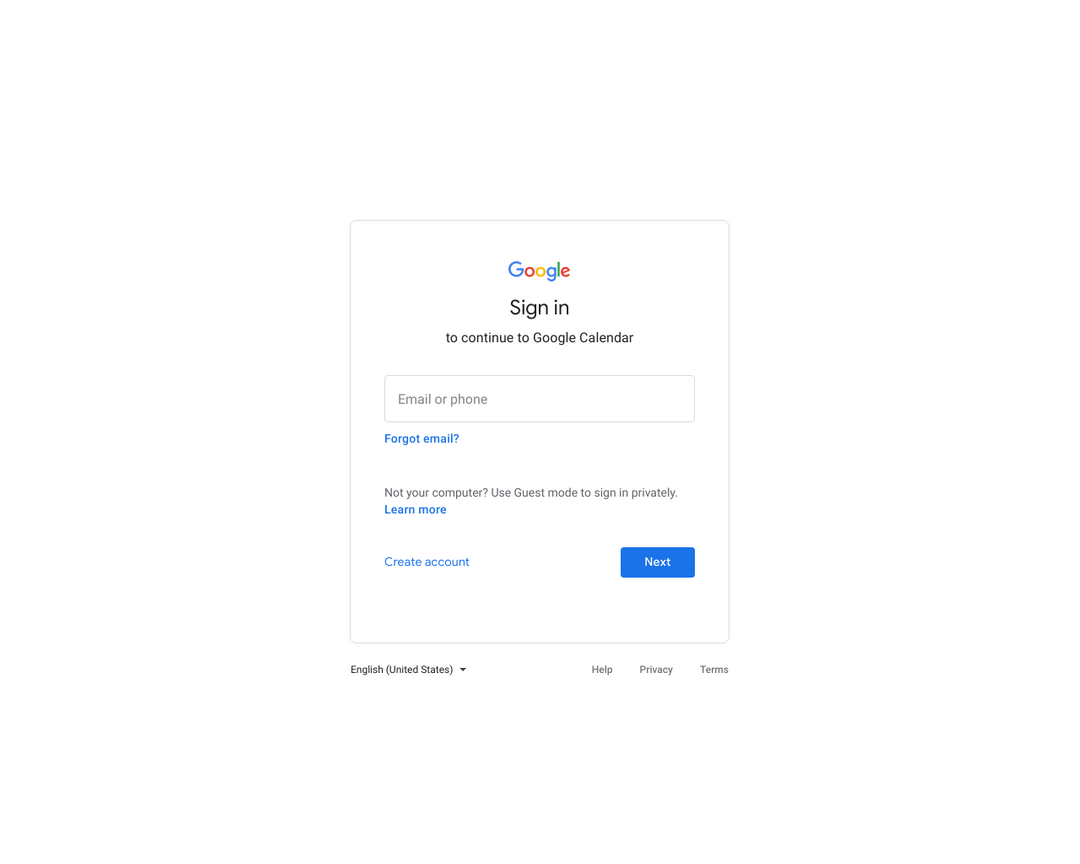Google: (504, 254, 572, 288)
